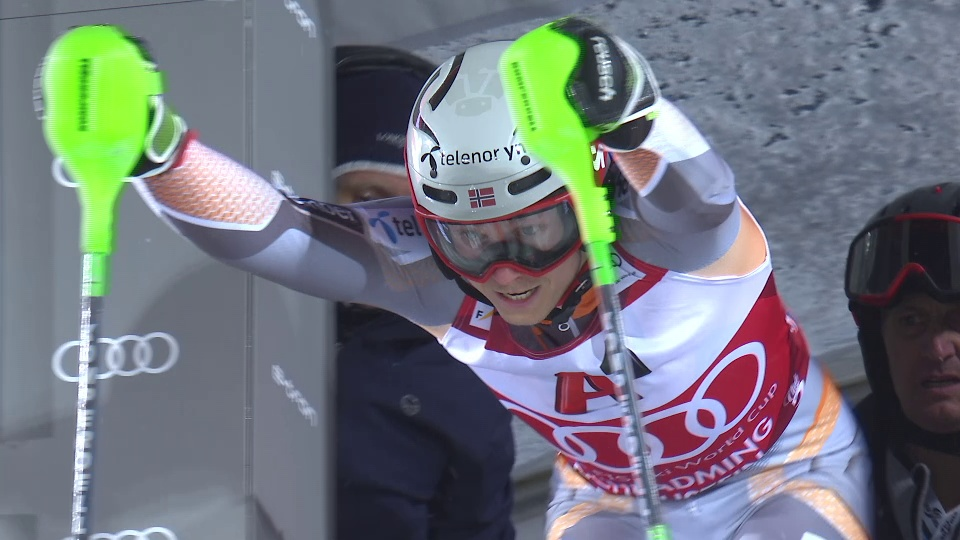a1: (550, 371, 655, 408)
audi: (517, 390, 746, 462), (50, 331, 187, 384)
